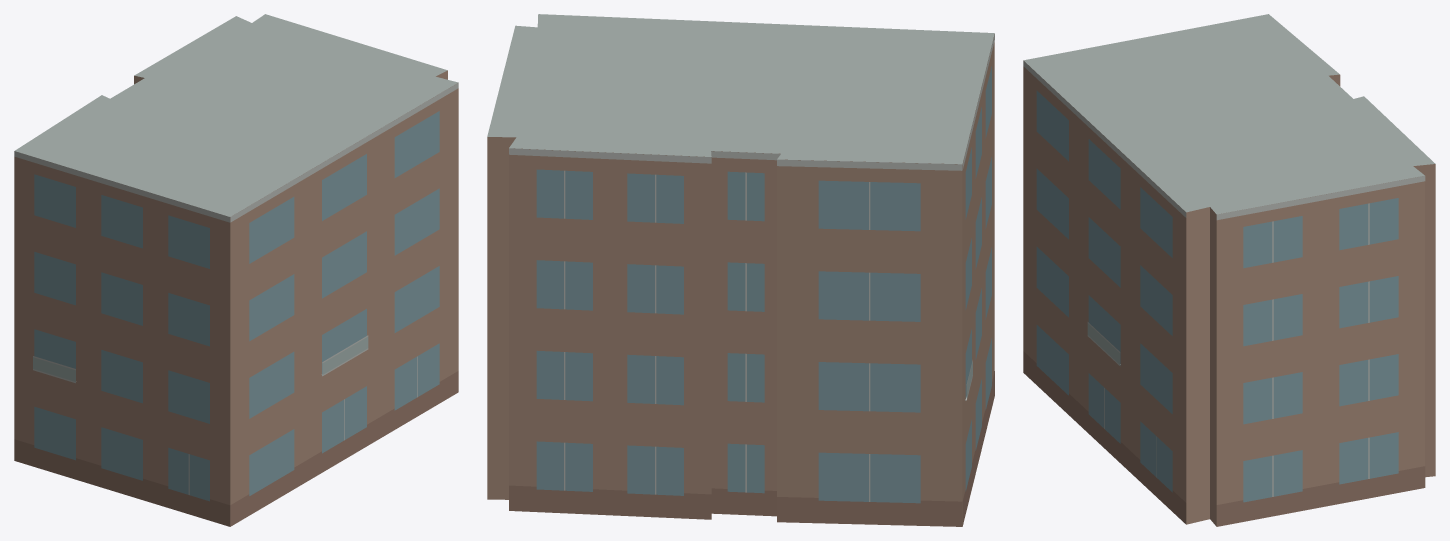
Rendered from survey-upis-32704700.glb.
3 renders of one model, left to right at view 1: azimuth 30°, elevation 25°; view 2: azimuth 150°, elevation 25°; view 3: azimuth 270°, elevation 25°, orthographic. The views are drawn at different scales.
Visible parts, largest first — view 1: survey-upis-32704700.tmp; view 2: survey-upis-32704700.tmp; view 3: survey-upis-32704700.tmp.
Part boxes in pixels (x1,y1,x2,y2): survey-upis-32704700.tmp: (14, 14, 458, 526); survey-upis-32704700.tmp: (487, 14, 994, 526); survey-upis-32704700.tmp: (1023, 14, 1435, 526).
Size of the model in its own units: 18.47 by 13.4 by 16.05.
